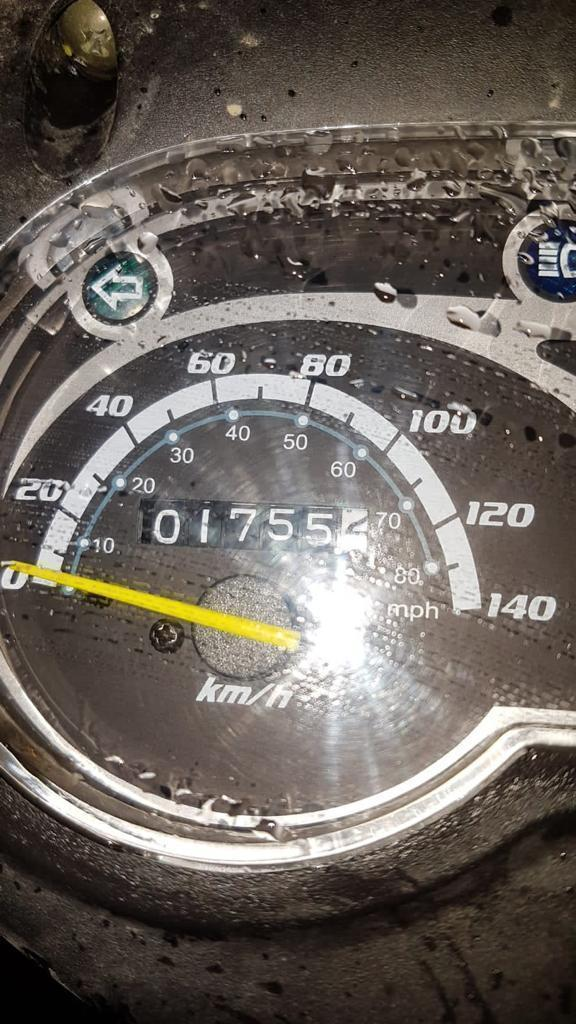0: (149, 505, 183, 546)
1: (196, 502, 215, 547)
2: (343, 504, 370, 540)
5: (304, 508, 334, 549), (266, 506, 295, 545)
7: (227, 506, 255, 548)
odometer: (137, 496, 371, 555)
